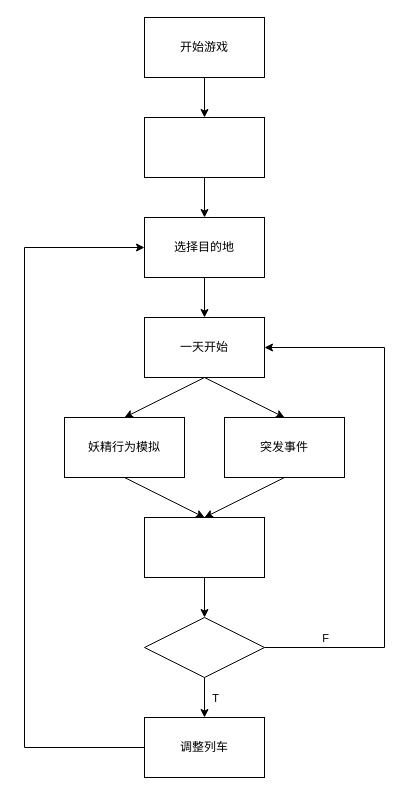
This 410x795 diagram has some shape labels left out. Here are the shapes that lost their labels. From the top down, the centre of each, then its label:
At [204,147]: "构建初始列车".
At [204,547]: "一天结束".
At [204,647]: "到达目的地".
